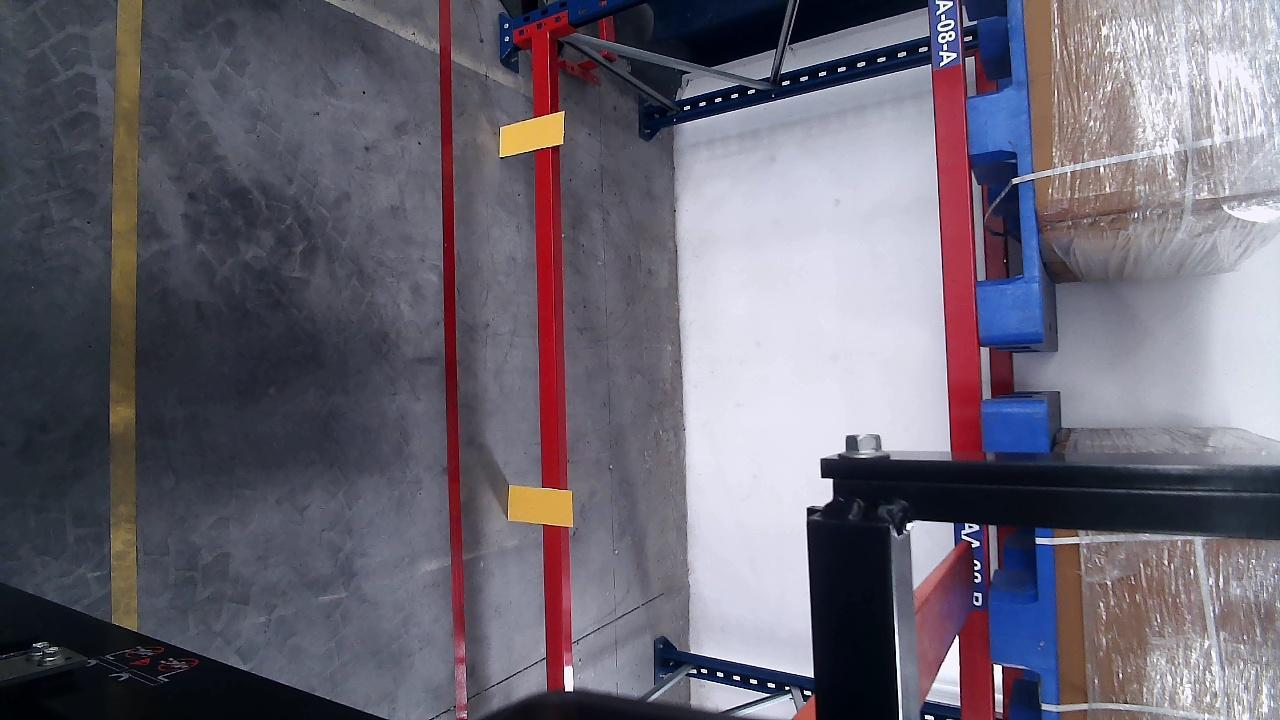h_rack: (930, 0, 995, 718), (529, 32, 567, 689)
orange_strip: (506, 484, 576, 529), (500, 107, 564, 156)
red_line: (433, 0, 477, 720)
small_pallet: (960, 1, 1046, 337), (981, 409, 1066, 718)
yellow_line: (115, 0, 146, 630)
